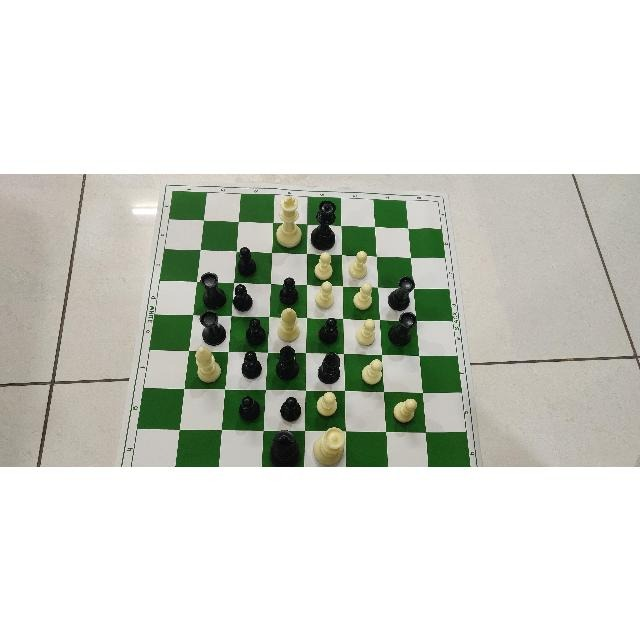black-bishop: (278, 342, 302, 379), (319, 351, 341, 387)
black-king: (271, 426, 302, 464)
black-pawn: (237, 393, 261, 426), (237, 243, 259, 277), (240, 348, 261, 379), (280, 395, 303, 421), (319, 315, 340, 343), (278, 275, 299, 303), (234, 282, 252, 313), (247, 317, 265, 347)
black-queen: (310, 200, 338, 248)
black-rook: (387, 310, 420, 348), (198, 269, 226, 309), (194, 309, 223, 344), (388, 274, 416, 307)
white-bishop: (192, 345, 219, 381), (279, 306, 299, 342)
white-king: (275, 193, 299, 250)
white-pawn: (388, 393, 421, 425), (313, 389, 338, 418), (347, 249, 370, 279), (314, 280, 337, 310), (354, 317, 378, 345), (353, 283, 377, 311), (360, 357, 384, 384), (315, 249, 335, 280)
white-queen: (311, 426, 349, 464)
